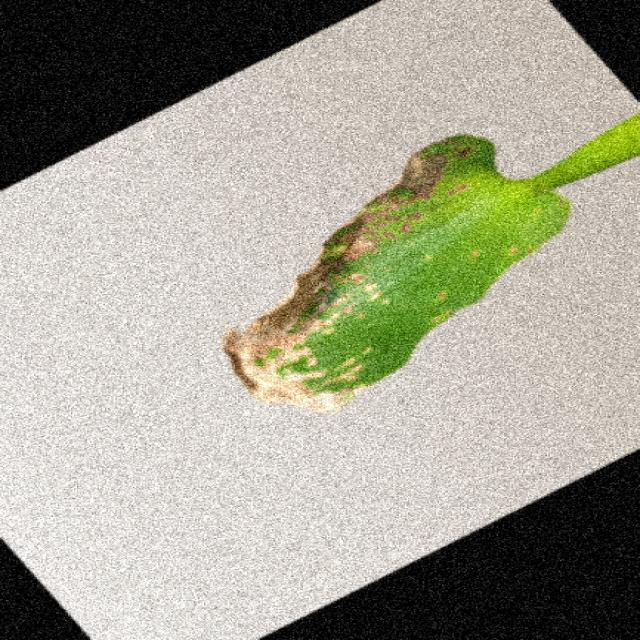daun berpenyakit bercak: (223, 115, 638, 412)
